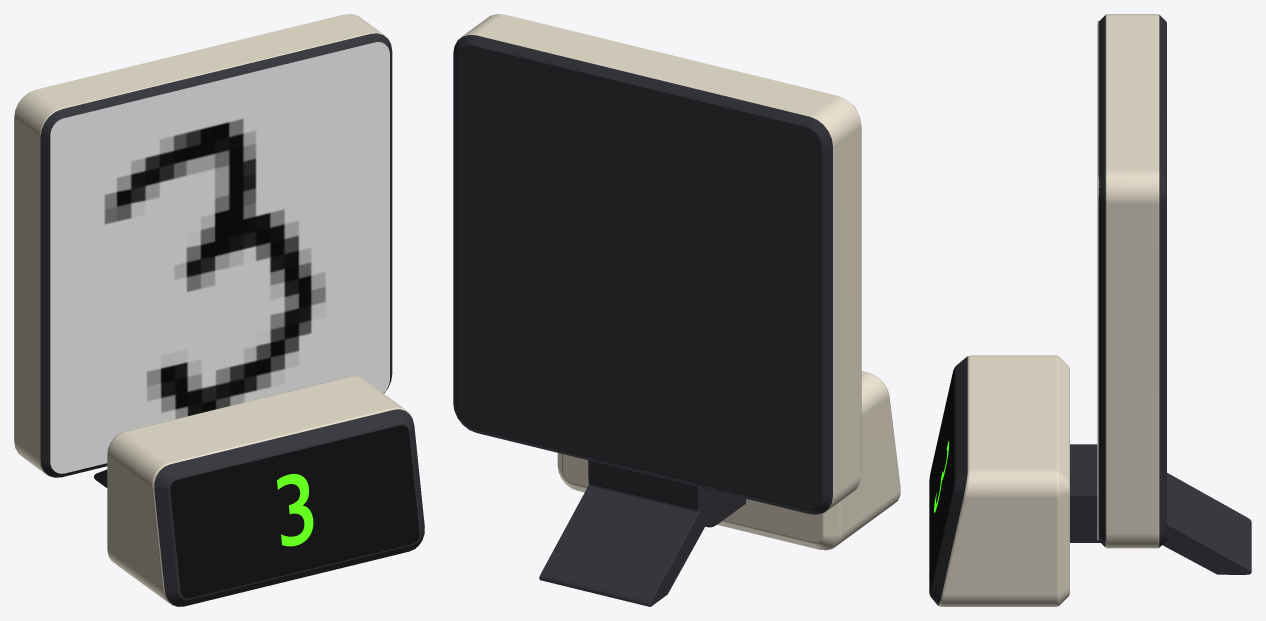
Rendered from draw.gltf.
3 views of the same model, side by side, from view 1: azimuth 30°, elevation 25°; view 2: azimuth 150°, elevation 25°; view 3: azimuth 270°, elevation 25° (orthographic). The views are drawn at different scales.
Visible parts, largest first — view 1: 62609592-f04b-4832-85dd-8de108ac1490_536x518, Cube.011, Cube.027, Text.002; view 2: Cube.027, Cube.011; view 3: Cube.027, Cube.011, 62609592-f04b-4832-85dd-8de108ac1490_536x518.
Part boxes in pixels (x1,y1,x2,y2): 62609592-f04b-4832-85dd-8de108ac1490_536x518: [50, 42, 389, 473]; Cube.011: [107, 376, 424, 606]; Cube.027: [14, 14, 392, 487]; Text.002: [277, 474, 313, 546]; Cube.027: [453, 14, 861, 606]; Cube.011: [557, 371, 900, 550]; Cube.027: [1070, 14, 1251, 574]; Cube.011: [929, 355, 1069, 606]; 62609592-f04b-4832-85dd-8de108ac1490_536x518: [1097, 21, 1099, 540].
Size of the model in its own units: 0.6127 by 0.7439 by 0.4753.
6 materials, 1 textured.
